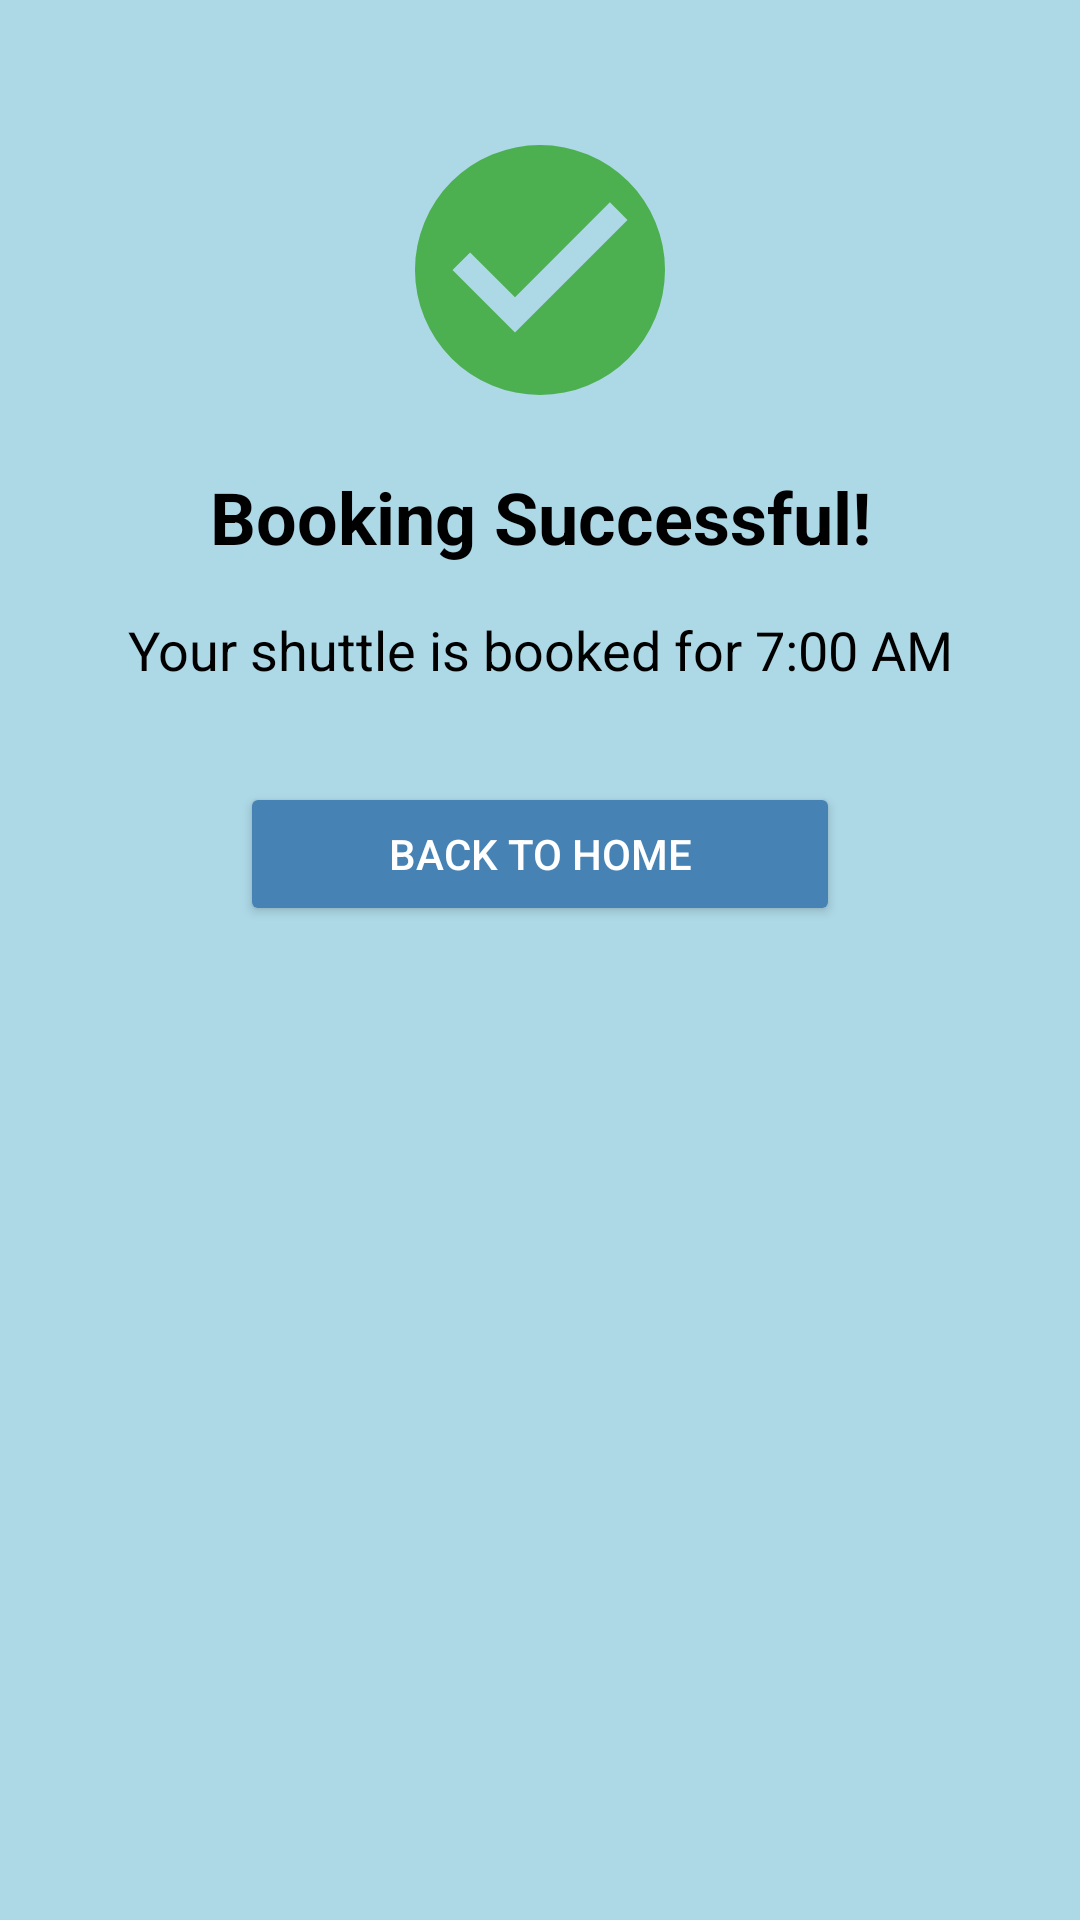

Icons on this 1080w x 1920h Android screen, each with its box as (x1, y1, x2, y2):
check circle: (415, 145, 665, 395)
